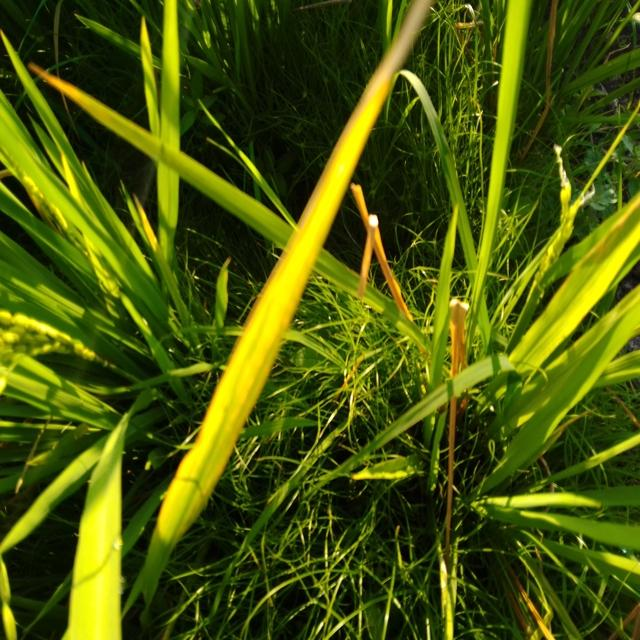Brown spot: (181, 0, 435, 527)
